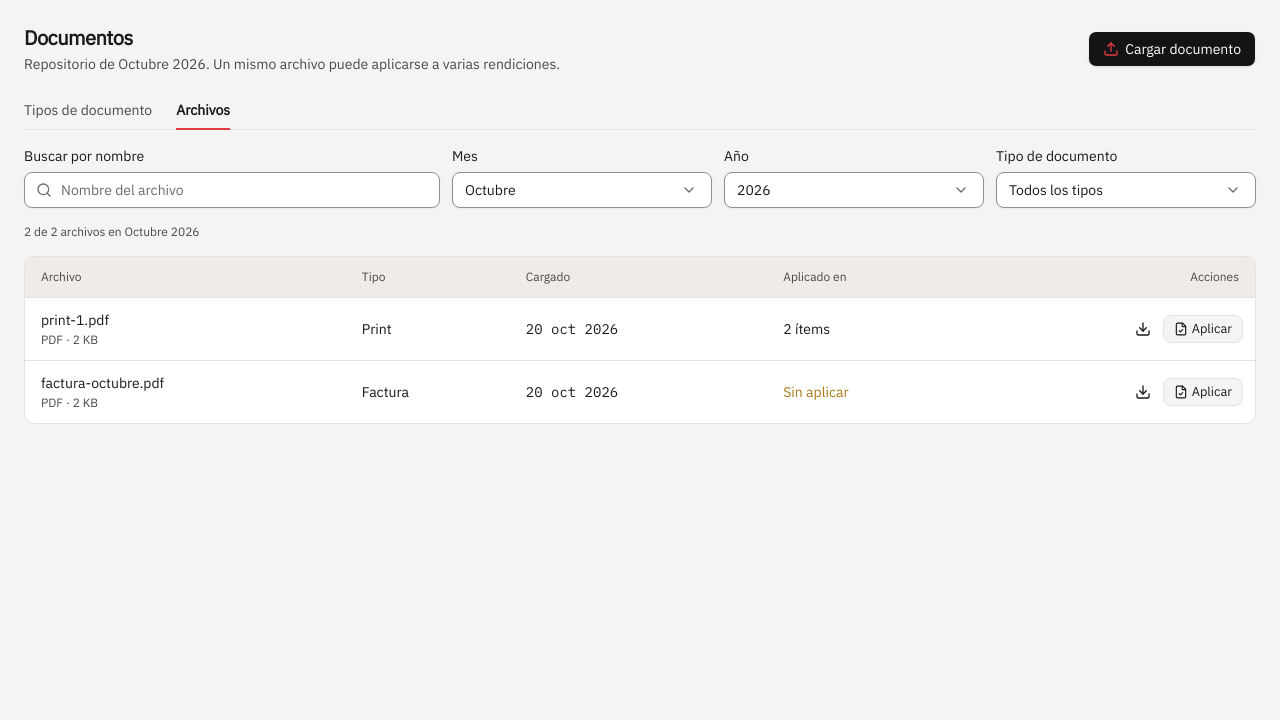
ArchivosPage: repositorio › cambia el período desde los filtros
The image size is (1280, 720).
Check: the button "print-1.pdf" is shown, box [41,310,109,330]
Click the dropdown named "Mes". click: (490, 190)
box: [452,172,712,208]
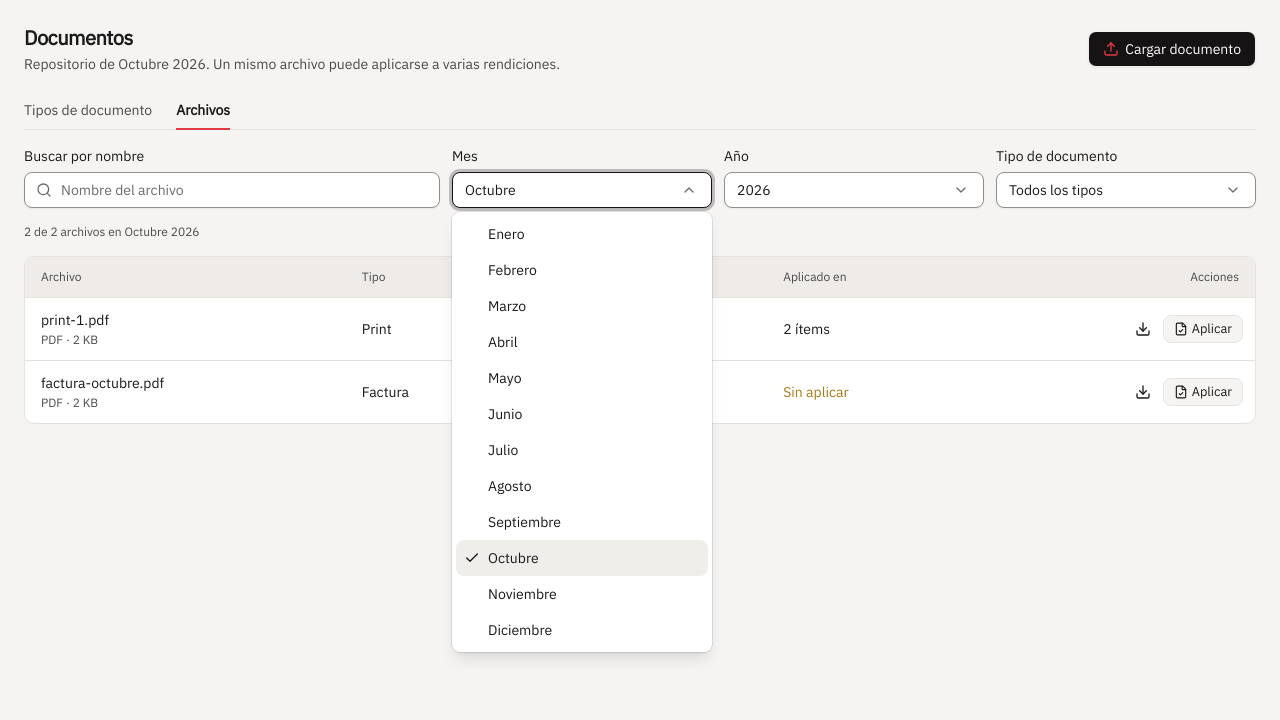
Click the option "Septiembre". click: (525, 522)
box: [488,513,561,531]
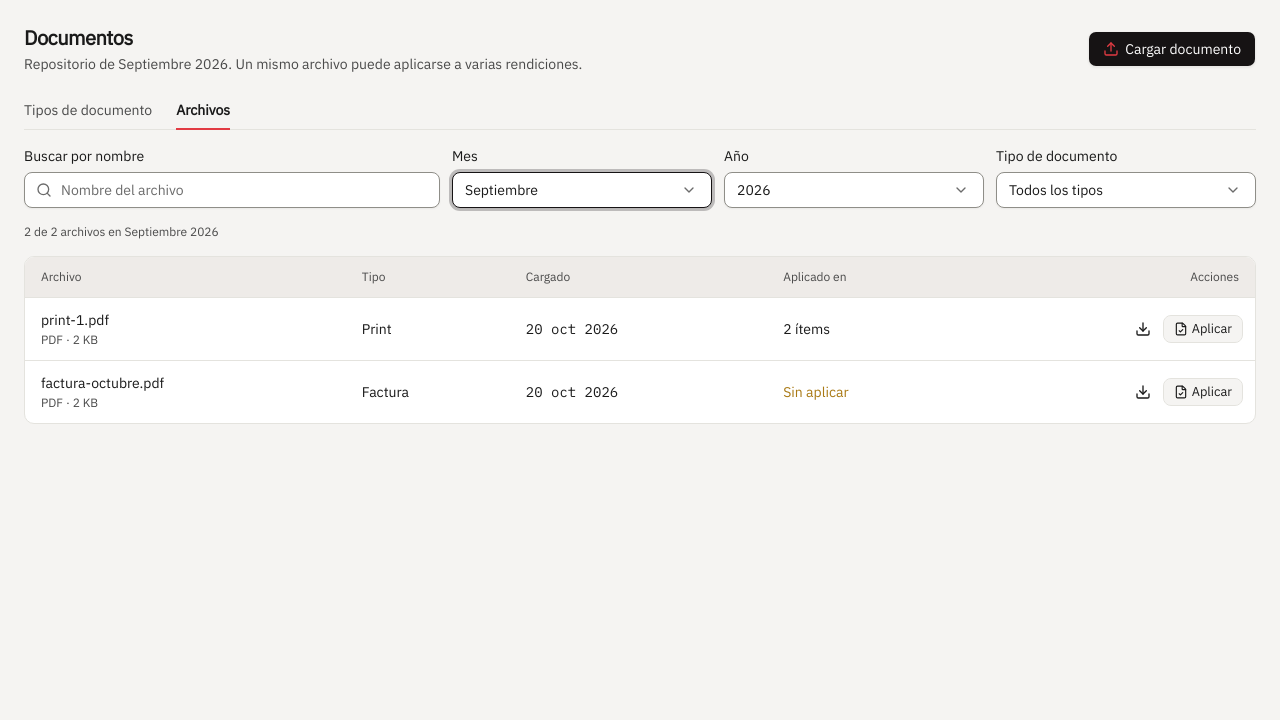
Check: the list is gone
